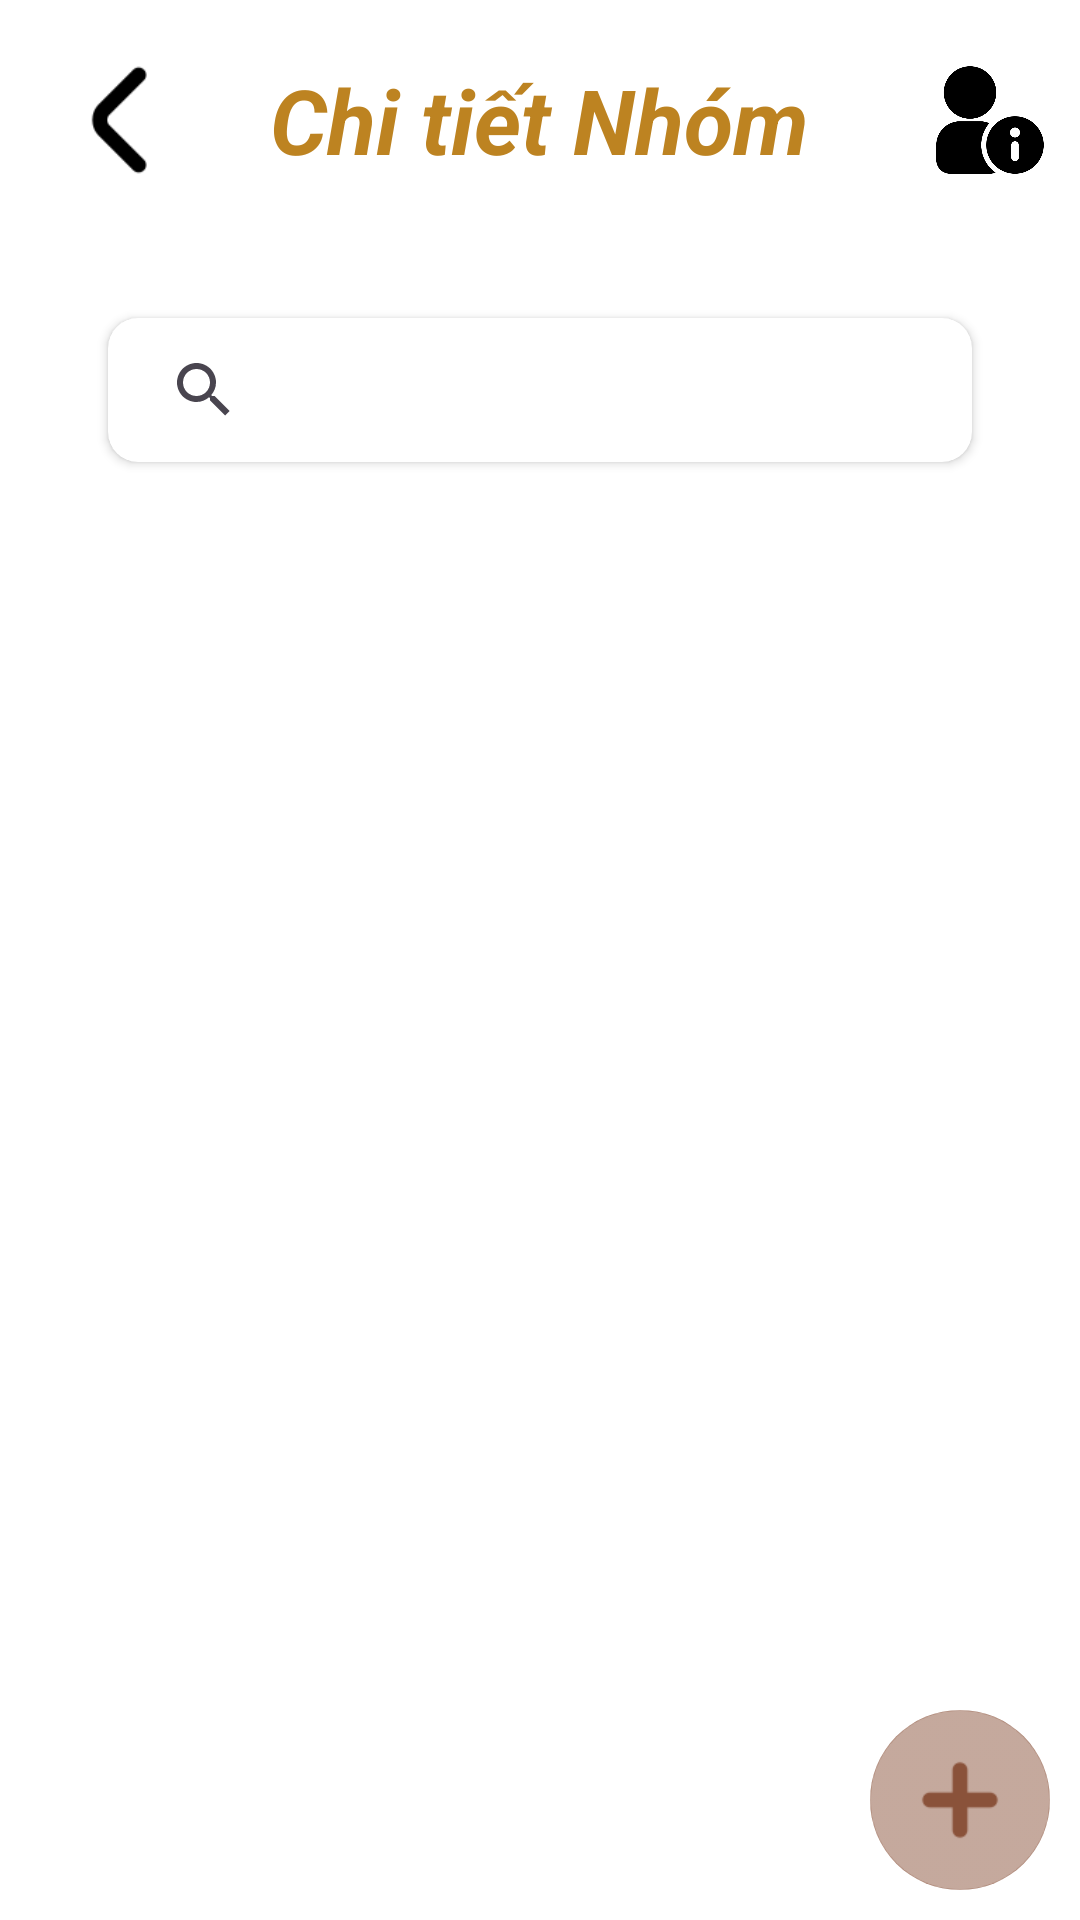

Locate icon controls on the screen. Image size 1080 x 1920, boxes as (x1, y1, x2, y2).
add: (870, 1710, 1050, 1890)
angle left: (91, 66, 147, 174)
